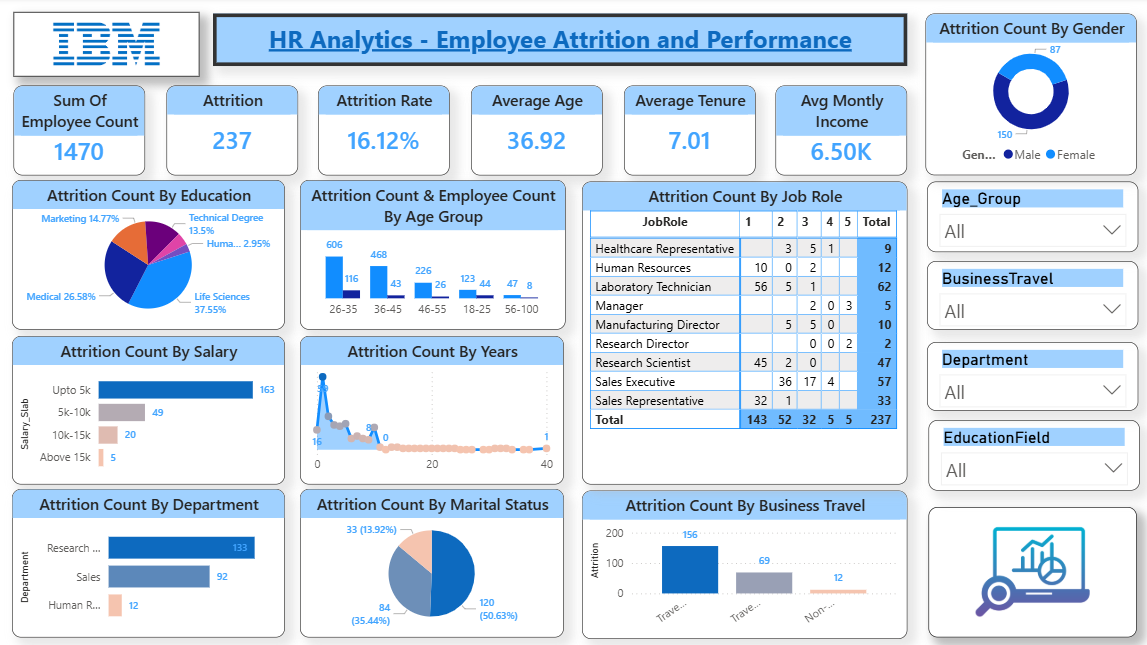

Layout of this report page (visuals, bound fields, positions):
{"tool":"powerbi","page":{"name":"Page 1","canvas":[1280,720],"ordinal":0},"visuals":[{"type":"textbox","box":[248.5,18.2,767,58],"z":0},{"type":"barChart","title":"Attrition Count By Department","fields":{"Y":["Sum(HR-analytics.Attrition_Count)"],"Category":["HR-analytics.Department"]},"box":[26,544.2,301,164],"z":0,"group":"g4"},{"type":"columnChart","title":"Attrition Count By Business Travel","fields":{"Y":["Sum(HR-analytics.Attrition_Count)"],"Category":["HR-analytics.BusinessTravel"]},"box":[656,545,359.5,164],"z":0},{"type":"image","box":[28.2,16.6,205.4,71.2],"z":1000},{"type":"pieChart","title":"Attrition Count By Marital Status","fields":{"Y":["Sum(HR-analytics.Attrition_Count)"],"Category":["HR-analytics.MaritalStatus"]},"box":[344.2,544,291.5,164],"z":1000,"group":"g4"},{"type":"donutChart","title":"Attrition Count By Gender","fields":{"Category":["HR-analytics.Gender"],"Y":["Sum(HR-analytics.Attrition_Count)"]},"box":[1035.3,18.2,233.6,178.9],"z":3000},{"type":"card","title":"Sum Of Employee Count","fields":{"Values":["Sum(HR-analytics.EmployeeCount)"]},"box":[28.2,97.7,145.4,99.4],"z":3000,"group":"g1"},{"type":"group","id":"g1","title":"Group 1","box":[28.2,97.7,987.3,99.4],"z":4000},{"type":"card","title":"Attrition","fields":{"Values":["Sum(HR-analytics.Attrition_Count)"]},"box":[196.6,97.7,145.4,99.4],"z":4000,"group":"g1"},{"type":"card","title":"Attrition Rate","fields":{"Values":["HR-analytics.AttritionRate"]},"box":[364.9,97.7,145.4,99.4],"z":5000,"group":"g1"},{"type":"pieChart","title":"Attrition Count By Education","fields":{"Y":["Sum(HR-analytics.Attrition_Count)"],"Category":["HR-analytics.EducationField"]},"box":[26.5,202.2,301.5,165],"z":5000,"group":"g2"},{"type":"card","title":"Average Age","fields":{"Values":["Avg(HR-analytics.Age)"]},"box":[533.3,97.7,145.4,99.4],"z":6000,"group":"g1"},{"type":"clusteredColumnChart","title":"Attrition Count & Employee Count By Age Group","fields":{"Category":["HR-analytics.Age_Group"],"Y":["Sum(HR-analytics.EmployeeCount)","Sum(HR-analytics.Attrition_Count)"]},"box":[344.5,202.2,293.2,165],"z":6000,"group":"g2"},{"type":"card","title":"Avg Montly Income","fields":{"Values":["Avg(HR-analytics.MonthlyIncome)"]},"box":[870,97.7,145.4,99.4],"z":7000,"group":"g1"},{"type":"pivotTable","title":"Attrition Count By Job Role","fields":{"Rows":["HR-analytics.JobRole"],"Columns":["HR-analytics.JobLevel"],"Values":["Sum(HR-analytics.Attrition_Count)"]},"box":[656,203.7,359.5,334.6],"z":7000},{"type":"barChart","title":"Attrition Count By Salary","fields":{"Y":["Sum(HR-analytics.Attrition_Count)"],"Category":["HR-analytics.Salary_Slab"]},"box":[26.5,375,301,164],"z":7001,"group":"g3"},{"type":"group","id":"g2","title":"Group 2","box":[26.5,202.2,611.2,165.6],"z":7002},{"type":"areaChart","title":"Attrition Count By Years","fields":{"Category":["HR-analytics.YearsAtCompany"],"Y":["Sum(HR-analytics.Attrition_Count)"]},"box":[344.7,374.8,291.5,164],"z":7003,"group":"g3"},{"type":"group","id":"g3","title":"Group 3","box":[26.5,374.8,609.6,164],"z":7004},{"type":"group","id":"g4","title":"Group 3","box":[26,544,609.6,164],"z":7005},{"type":"slicer","title":"Attrition Count By Gender","fields":{"Values":["HR-analytics.Age_Group"]},"box":[1037,203.7,233.6,77.9],"z":7006},{"type":"slicer","title":"Attrition Count By Gender","fields":{"Values":["HR-analytics.BusinessTravel"]},"box":[1037,291.5,233.6,76.2],"z":7007},{"type":"slicer","title":"Attrition Count By Gender","fields":{"Values":["HR-analytics.Department"]},"box":[1037,381,233.6,76.2],"z":7008},{"type":"slicer","title":"Attrition Count By Gender","fields":{"Values":["HR-analytics.EducationField"]},"box":[1038.6,467.1,233.6,77.9],"z":7009},{"type":"image","box":[1038.6,563.2,230.3,144.1],"z":7010},{"type":"card","title":"Average Tenure","fields":{"Values":["Avg(HR-analytics.YearsAtCompany)"]},"box":[701.7,97.7,145.4,99.4],"z":8000,"group":"g1"}]}

Visuals, with their boxes in screenshot pixels (x1, y1, x2, y2), scaled from the page's 1280x720 canvas onto the 1147x645 screenshot:
textbox: left=223, top=16, right=910, bottom=68
"Attrition Count By Department" barChart: left=23, top=488, right=293, bottom=634
"Attrition Count By Business Travel" columnChart: left=588, top=488, right=910, bottom=635
image: left=25, top=15, right=209, bottom=79
"Attrition Count By Marital Status" pieChart: left=308, top=487, right=570, bottom=634
"Attrition Count By Gender" donutChart: left=928, top=16, right=1137, bottom=177
"Sum Of Employee Count" card: left=25, top=88, right=156, bottom=177
"Group 1" group: left=25, top=88, right=910, bottom=177
"Attrition" card: left=176, top=88, right=306, bottom=177
"Attrition Rate" card: left=327, top=88, right=457, bottom=177
"Attrition Count By Education" pieChart: left=24, top=181, right=294, bottom=329
"Average Age" card: left=478, top=88, right=608, bottom=177
"Attrition Count & Employee Count By Age Group" clusteredColumnChart: left=309, top=181, right=571, bottom=329
"Avg Montly Income" card: left=780, top=88, right=910, bottom=177
"Attrition Count By Job Role" pivotTable: left=588, top=182, right=910, bottom=482
"Attrition Count By Salary" barChart: left=24, top=336, right=293, bottom=483
"Group 2" group: left=24, top=181, right=571, bottom=329
"Attrition Count By Years" areaChart: left=309, top=336, right=570, bottom=483
"Group 3" group: left=24, top=336, right=570, bottom=483
"Group 3" group: left=23, top=487, right=570, bottom=634
"Attrition Count By Gender" slicer: left=929, top=182, right=1139, bottom=252
"Attrition Count By Gender" slicer: left=929, top=261, right=1139, bottom=329
"Attrition Count By Gender" slicer: left=929, top=341, right=1139, bottom=410
"Attrition Count By Gender" slicer: left=931, top=418, right=1140, bottom=488
image: left=931, top=505, right=1137, bottom=634
"Average Tenure" card: left=629, top=88, right=759, bottom=177
